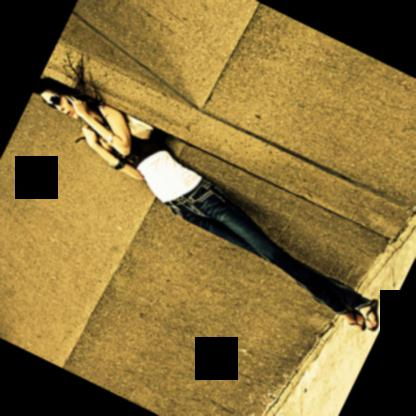handbag: (124, 111, 157, 139)
